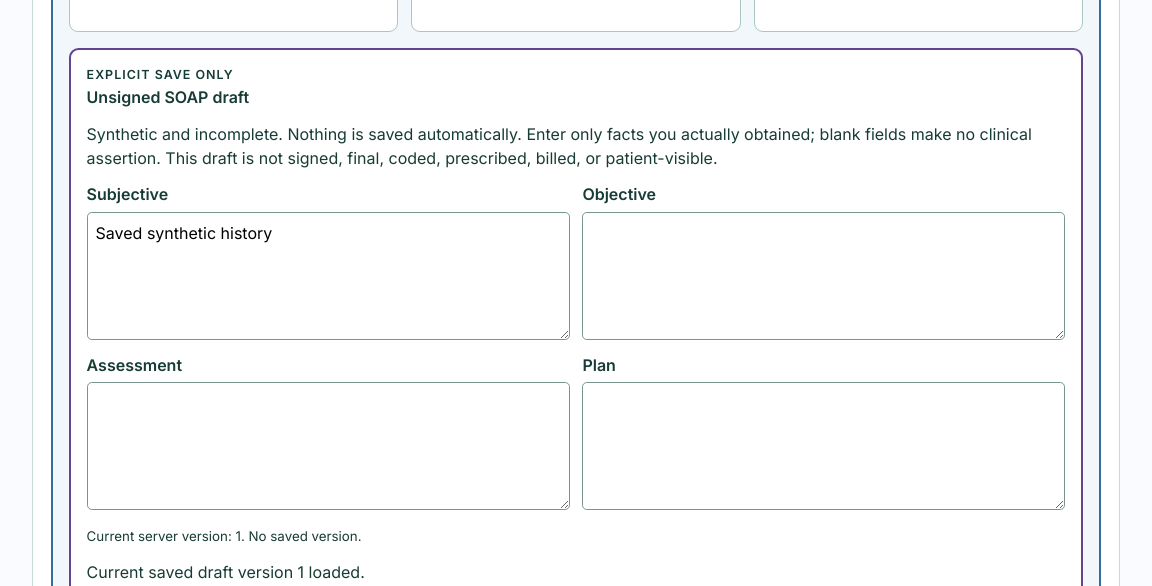
Test: resumes a consultation and does not overwrite unsaved notes on the ten-second queue poll
This screenshot has width=1152, height=586.
(page scrolled)
Step 1. Replace the text in the text box labelled "Subjective" with "Unsaved synthetic history" → x=328, y=276, box x1=87 y1=212 x2=570 y2=340
Wait 10000 ms
(page scrolled)
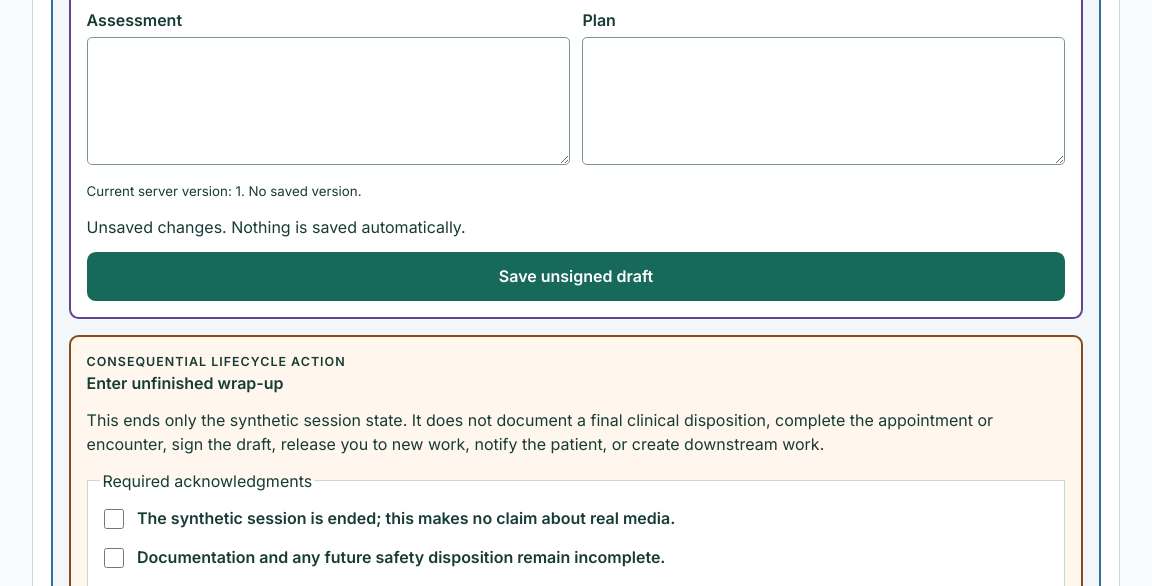
Check: the button "Save unsigned draft" is enabled, box x1=87 y1=252 x2=1065 y2=301
